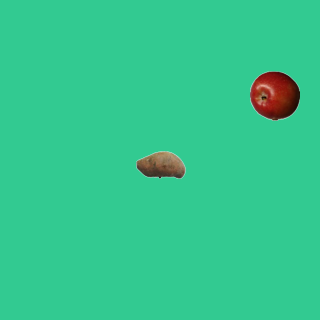Apple Braeburn: (249, 70, 299, 120)
Potato Sweet: (135, 139, 185, 189)
